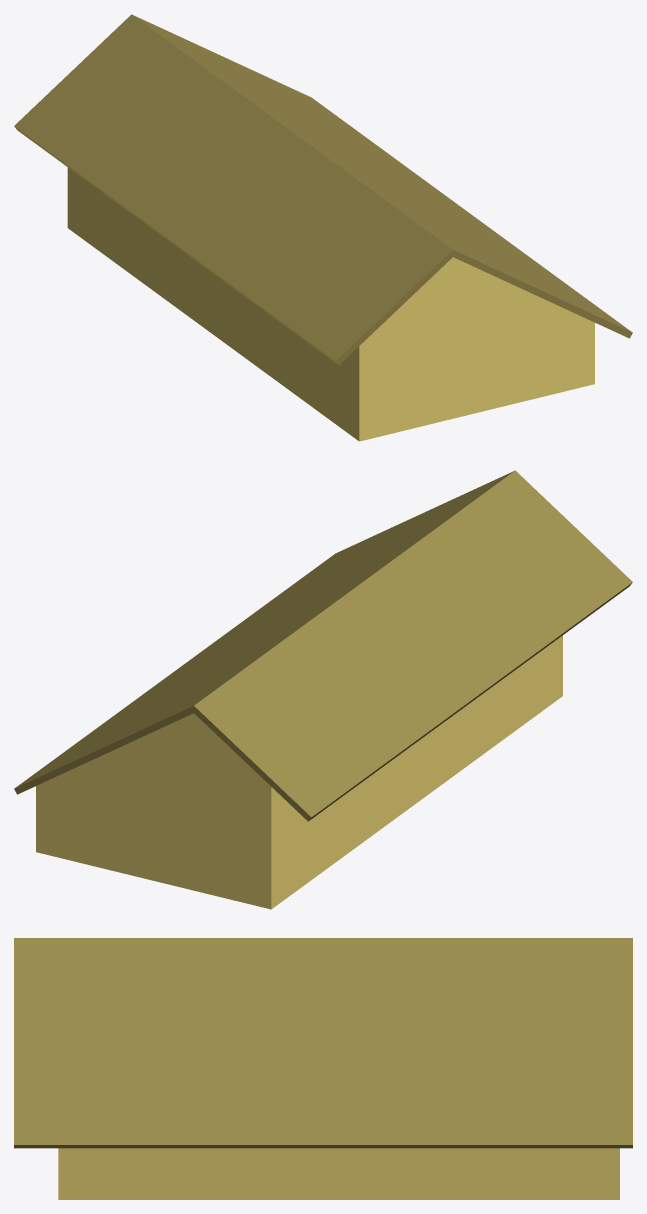
Rendered from result.glb.
3 renders of one model, top to bottom at view 1: azimuth 30°, elevation 25°; view 2: azimuth 150°, elevation 25°; view 3: azimuth 270°, elevation 25°, orthographic. The views are drawn at different scales.
Parts seen in each view (by area): view 1: fbbdcbc5-842b-46b0-9abd-13fe209f5d17__undefined (×2), fba86646-06f0-4613-9df0-34ab7ff0f726__undefined; view 2: fbbdcbc5-842b-46b0-9abd-13fe209f5d17__undefined (×2), fba86646-06f0-4613-9df0-34ab7ff0f726__undefined; view 3: fbbdcbc5-842b-46b0-9abd-13fe209f5d17__undefined, fba86646-06f0-4613-9df0-34ab7ff0f726__undefined.
Part boxes in pixels (bbox=[...]): fbbdcbc5-842b-46b0-9abd-13fe209f5d17__undefined (×2): bbox=[14, 14, 632, 365]; fba86646-06f0-4613-9df0-34ab7ff0f726__undefined: bbox=[67, 167, 594, 441]; fbbdcbc5-842b-46b0-9abd-13fe209f5d17__undefined (×2): bbox=[14, 470, 632, 821]; fba86646-06f0-4613-9df0-34ab7ff0f726__undefined: bbox=[36, 635, 562, 909]; fbbdcbc5-842b-46b0-9abd-13fe209f5d17__undefined: bbox=[14, 938, 632, 1148]; fba86646-06f0-4613-9df0-34ab7ff0f726__undefined: bbox=[58, 1148, 619, 1199].
Bounding box in the file's own units: 1261 × 776 × 2360.
